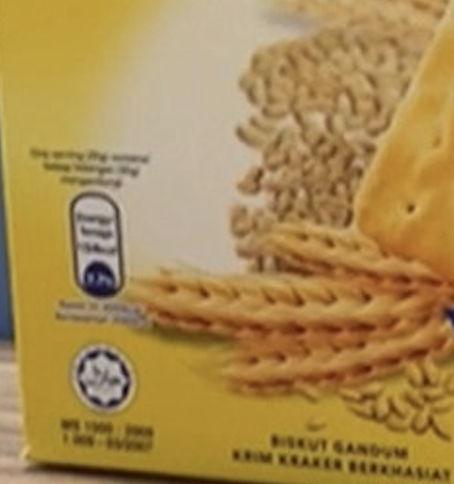halal: (84, 355, 127, 396)
